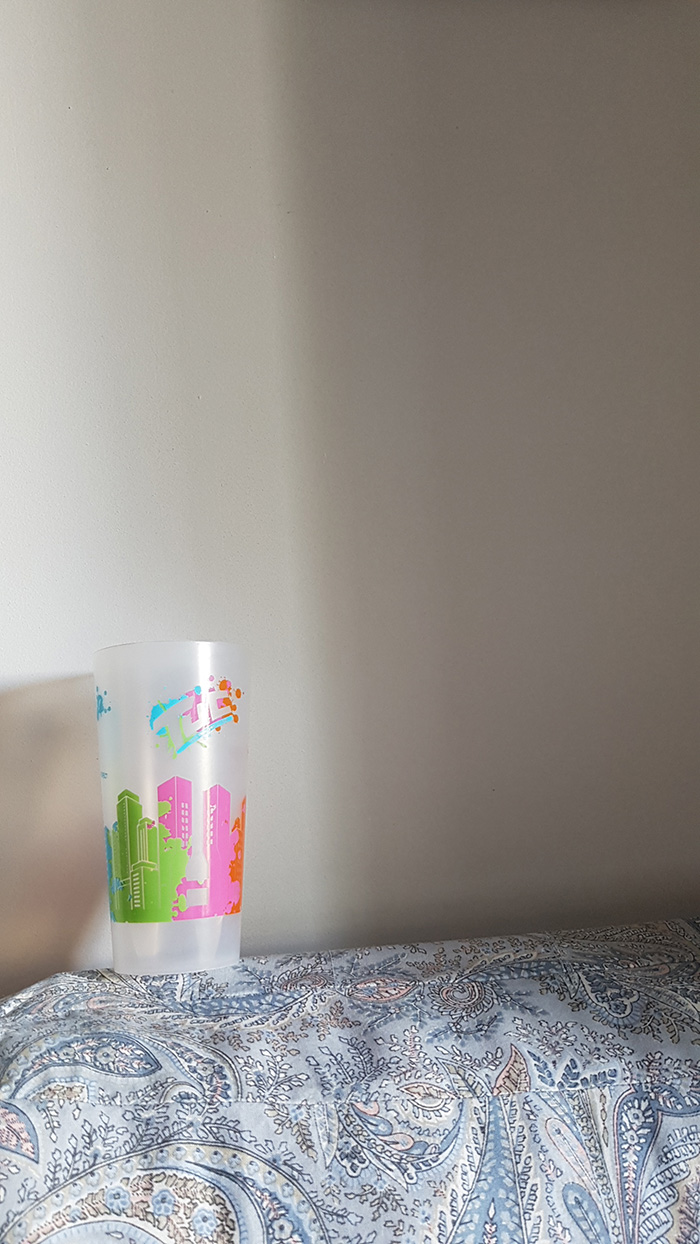ecocup: (90, 637, 250, 976)
